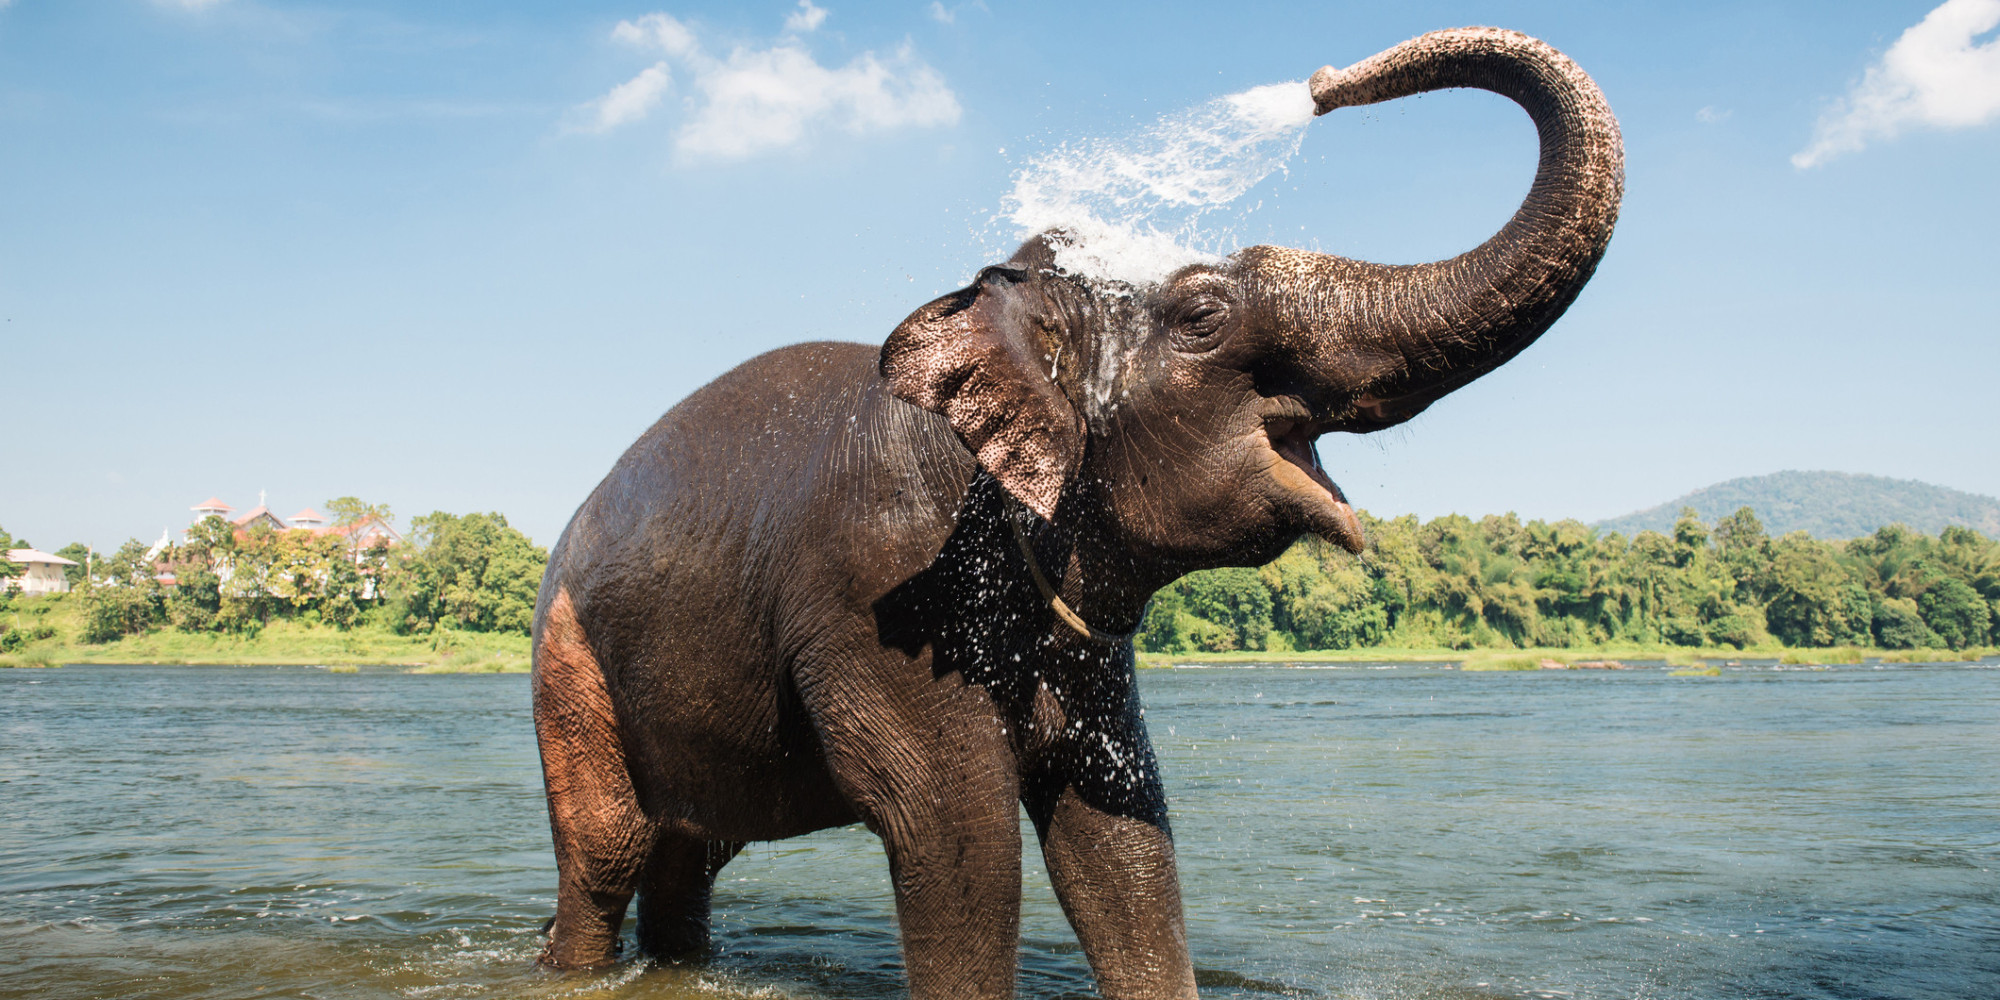elephant: (518, 9, 1634, 1000)
